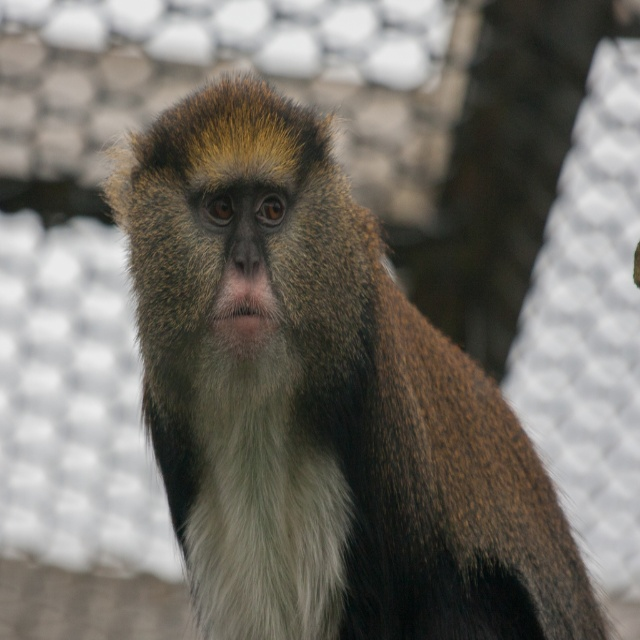Monkey: (90, 74, 602, 625)
